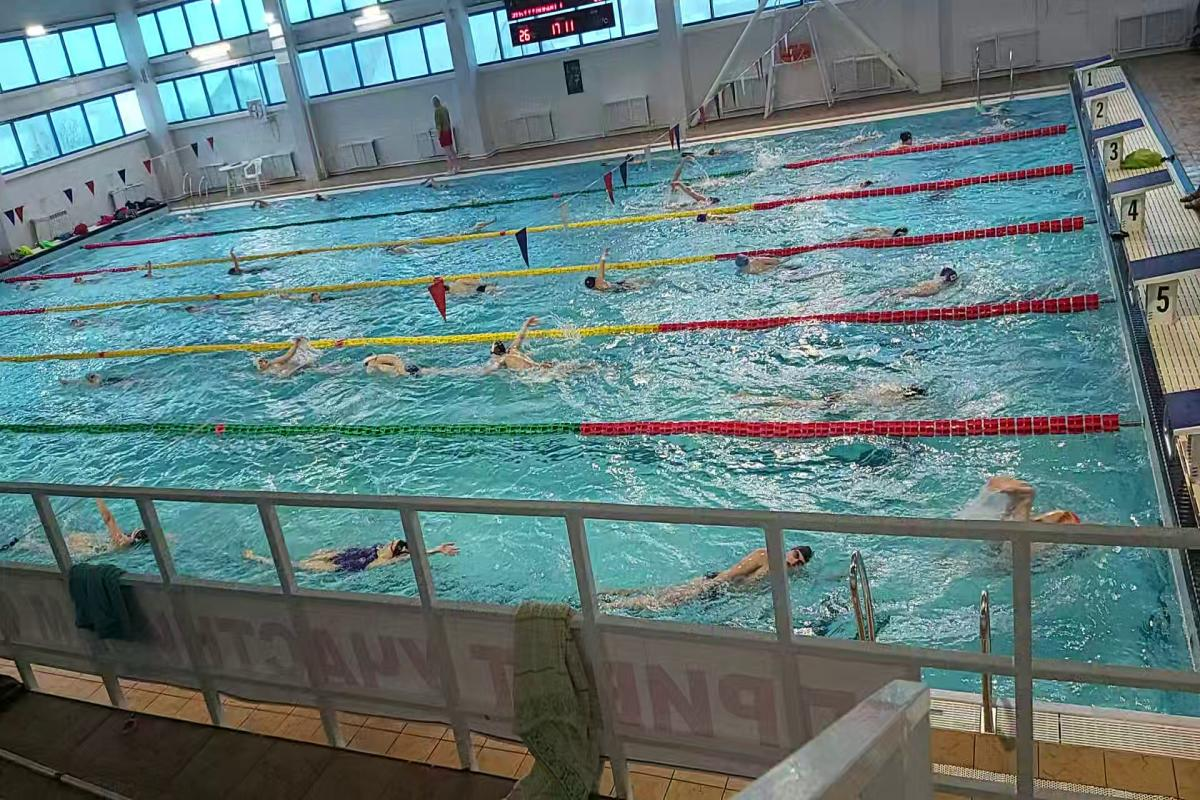swimmer: (605, 534, 769, 622), (301, 530, 413, 580), (482, 333, 582, 388), (354, 347, 471, 392), (70, 510, 151, 568), (561, 270, 668, 304), (893, 259, 971, 304), (254, 335, 322, 384), (724, 245, 816, 279), (67, 363, 134, 395), (663, 174, 726, 207), (844, 215, 919, 241), (303, 285, 366, 315), (224, 249, 278, 280), (382, 238, 430, 262), (183, 300, 240, 320), (693, 209, 740, 231), (826, 174, 888, 190), (64, 314, 116, 332)
